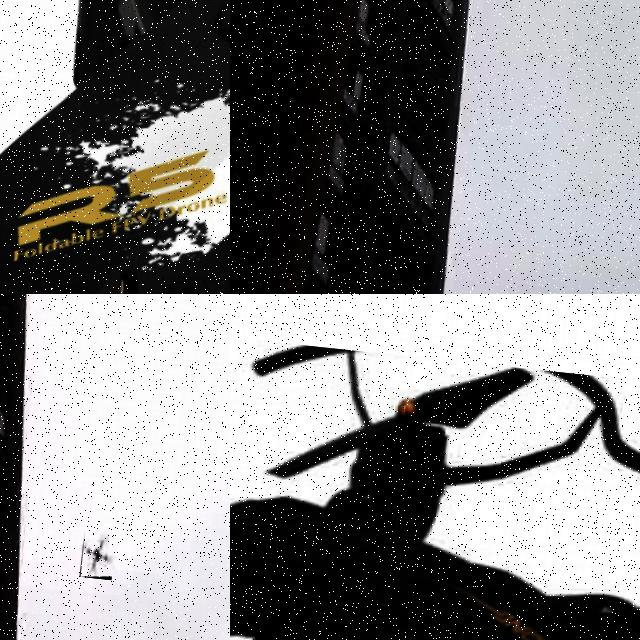0: (79, 530, 116, 580)
drone: (230, 327, 640, 640), (0, 0, 230, 294)
